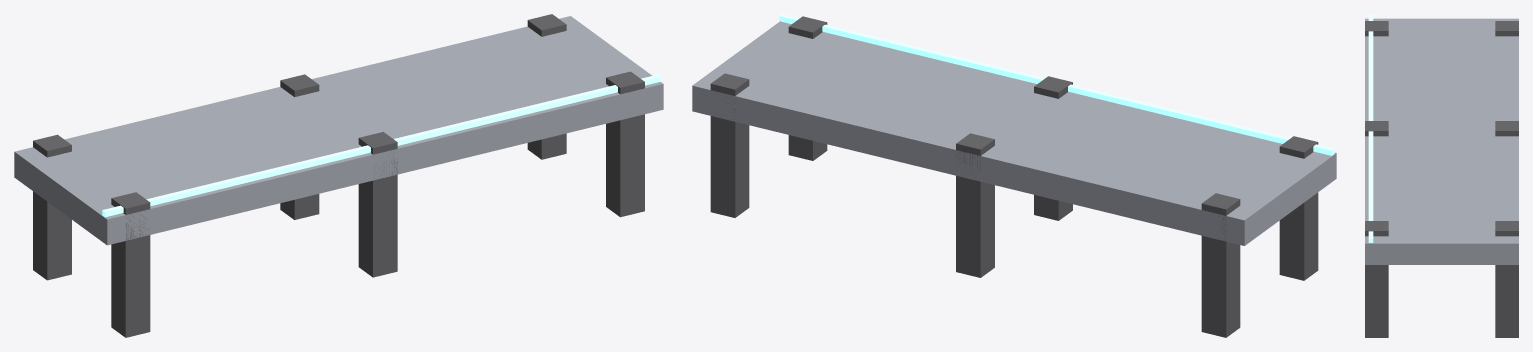
Rendered from pier_2030.glb.
3 views of the same model, side by side, from view 1: azimuth 30°, elevation 25°; view 2: azimuth 150°, elevation 25°; view 3: azimuth 270°, elevation 25° (orthographic). The views are drawn at different scales.
Visible parts, largest first — view 1: Deck, Post_0_R, Post_1_R, Post_2_R, Glow, Post_0_L, Post_1_L, Post_2_L; view 2: Deck, Post_0_L, Post_2_L, Post_1_L, Glow, Post_0_R, Post_2_R, Post_1_R; view 3: Deck, Post_2_L, Post_2_R, Glow, Post_0_L, Post_1_L, Post_0_R, Post_1_R.
Part boxes in pixels (bbox=[...]): Deck: bbox=[14, 16, 663, 245]; Post_0_R: bbox=[111, 192, 150, 337]; Post_1_R: bbox=[358, 132, 397, 277]; Post_2_R: bbox=[606, 71, 644, 217]; Glow: bbox=[102, 74, 661, 217]; Post_0_L: bbox=[33, 134, 71, 280]; Post_1_L: bbox=[280, 74, 319, 219]; Post_2_L: bbox=[527, 14, 566, 159]; Deck: bbox=[692, 21, 1336, 245]; Post_0_L: bbox=[1201, 193, 1240, 337]; Post_2_L: bbox=[710, 73, 749, 217]; Post_1_L: bbox=[956, 133, 994, 277]; Glow: bbox=[779, 14, 1334, 155]; Post_0_R: bbox=[1279, 136, 1318, 280]; Post_2_R: bbox=[788, 16, 827, 160]; Post_1_R: bbox=[1034, 76, 1072, 220]; Deck: bbox=[1365, 18, 1518, 264]; Post_2_L: bbox=[1495, 221, 1518, 337]; Post_2_R: bbox=[1365, 221, 1388, 337]; Glow: bbox=[1368, 14, 1373, 242]; Post_0_L: bbox=[1495, 21, 1518, 36]; Post_1_L: bbox=[1495, 121, 1518, 136]; Post_0_R: bbox=[1365, 21, 1388, 36]; Post_1_R: bbox=[1365, 121, 1388, 136].
Bounding box in the file's own units: 0.9 × 0.2 × 0.26.
